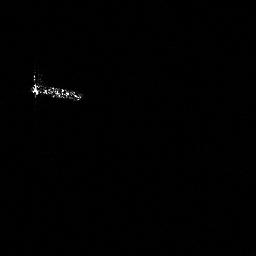ship: (27, 71, 84, 104)
